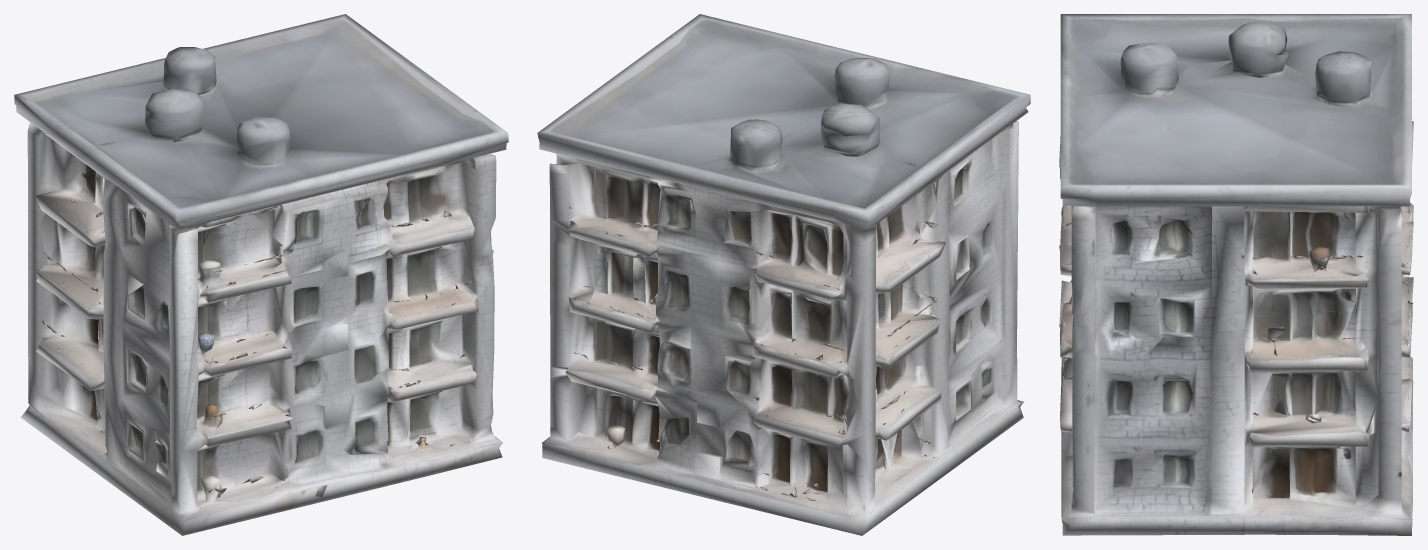
The model's file is h_tower.glb.
3 views of the same model, side by side, from view 1: azimuth 30°, elevation 25°; view 2: azimuth 150°, elevation 25°; view 3: azimuth 270°, elevation 25° (orthographic). The views are drawn at different scales.
Visible parts, largest first — view 1: model; view 2: model; view 3: model.
Boxes of the visible parts, x1,y1,x2,y2 form: model: [14, 14, 508, 535]; model: [537, 14, 1030, 535]; model: [1059, 14, 1413, 535].
Size of the model in its own units: 1.82 by 1.87 by 1.56.
Materials: 1 (1 with a texture image).
